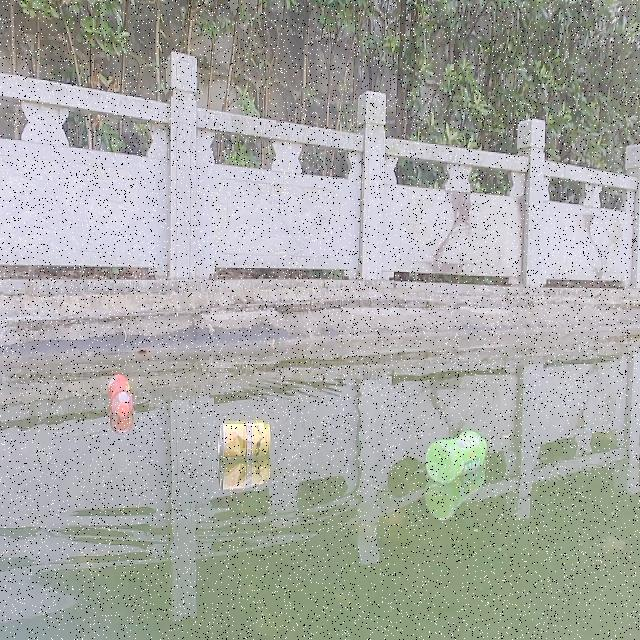Bottle: (421, 428, 490, 483), (106, 372, 132, 420)
Can: (213, 416, 273, 460)
